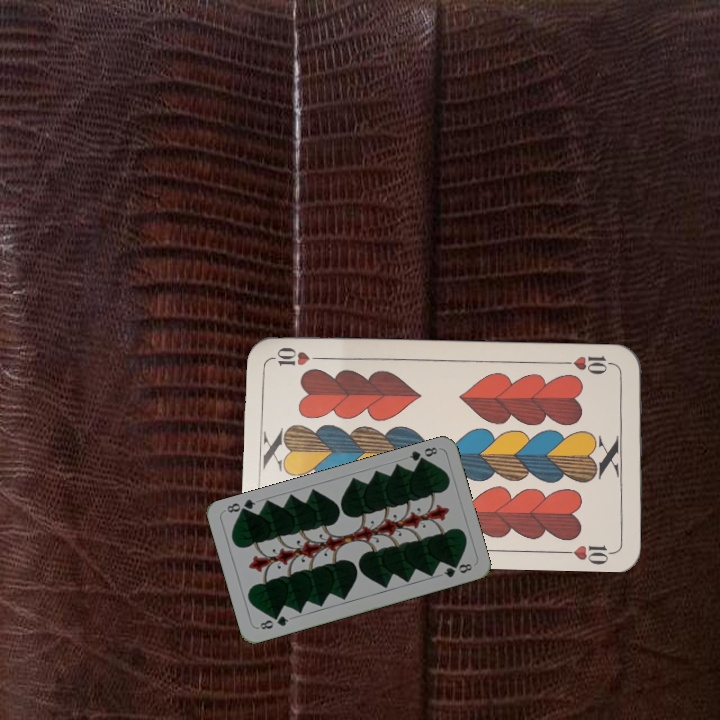G8: (405, 443, 440, 467), (254, 612, 291, 632)
H10: (560, 351, 619, 377)
